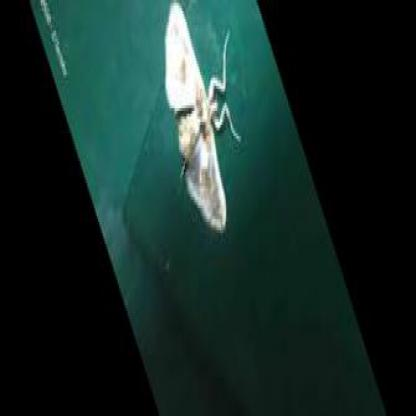leucinodes: (165, 3, 228, 233)
